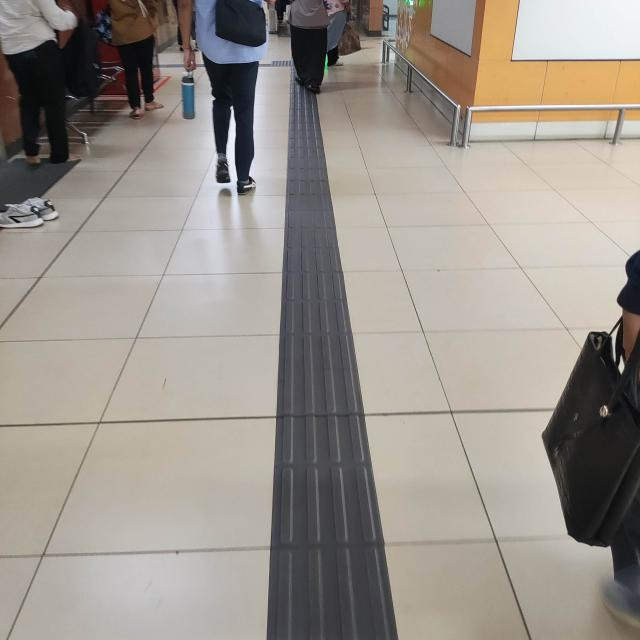lurus: (278, 111, 376, 639)
